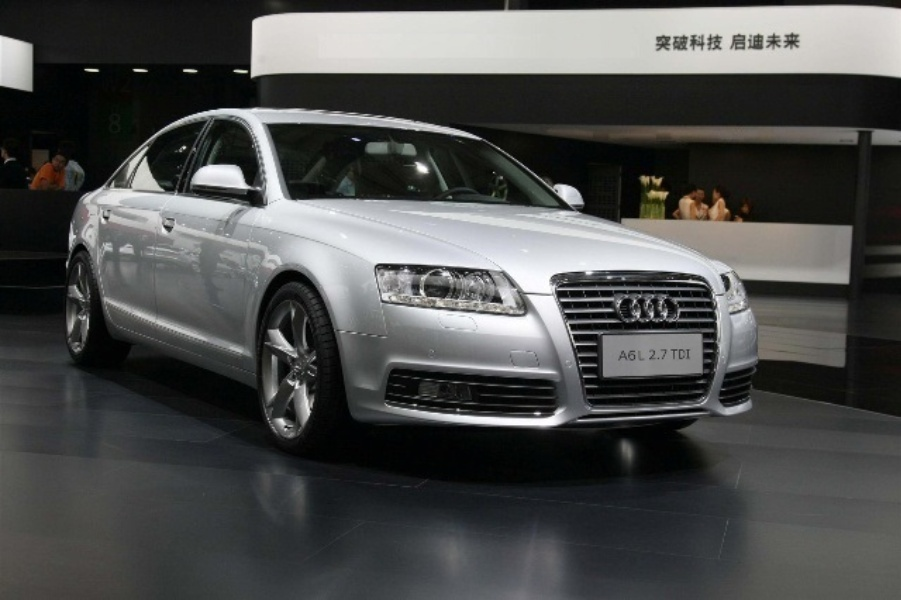text: (737, 31, 752, 51), (753, 31, 768, 51), (769, 31, 784, 51), (785, 31, 800, 51), (657, 34, 672, 53), (673, 34, 688, 53), (689, 34, 704, 53), (705, 34, 720, 53), (113, 113, 122, 134), (625, 350, 640, 362), (673, 348, 688, 360), (657, 348, 668, 361), (730, 31, 736, 51), (107, 113, 112, 134), (648, 348, 656, 361), (617, 350, 624, 362), (641, 350, 645, 362), (721, 34, 723, 53), (655, 34, 656, 53), (671, 348, 672, 360), (689, 348, 690, 360)
